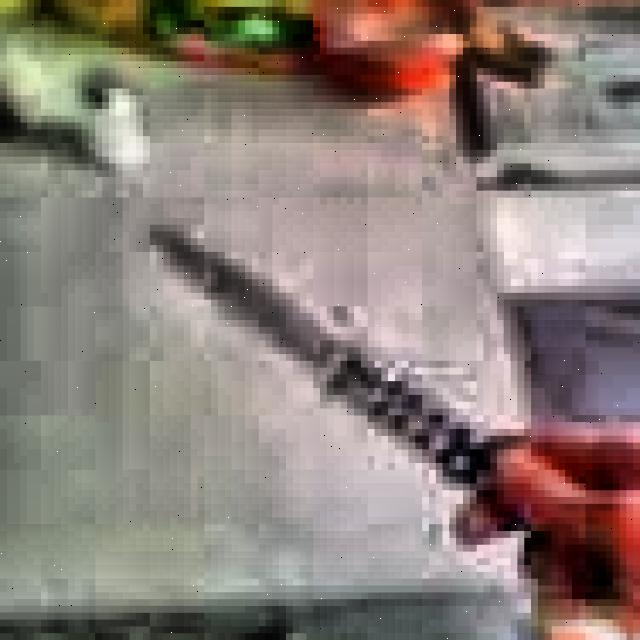knife: (162, 236, 502, 504)
